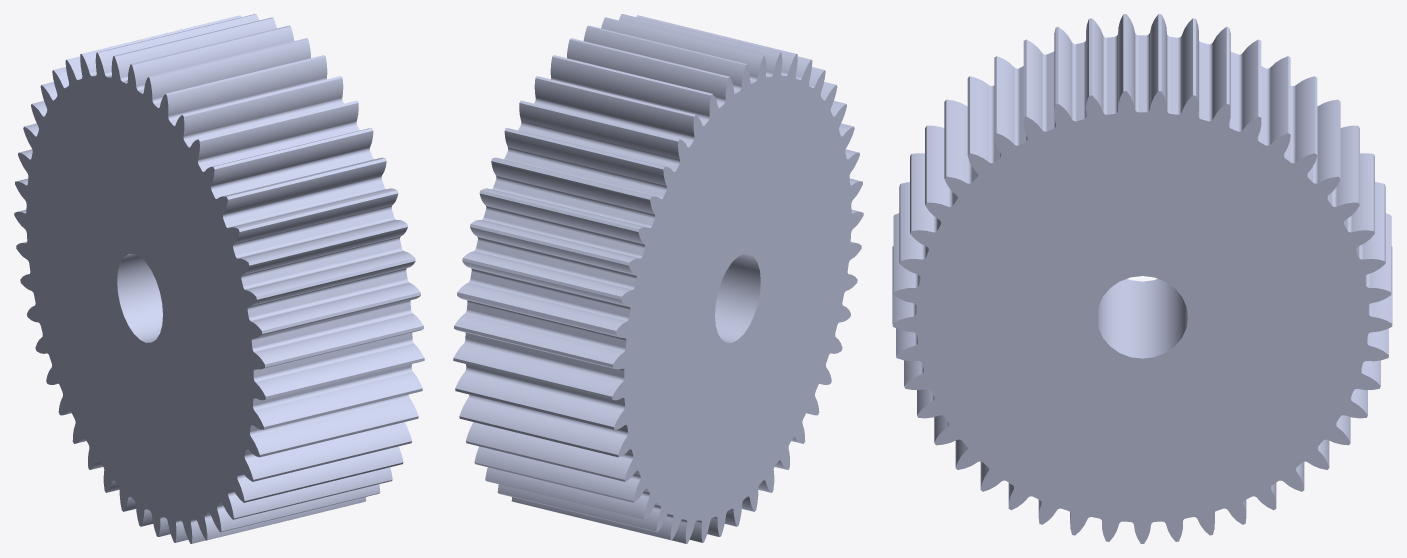
Rendered from spur_gear_6.glb.
The picture shows the model from 3 angles, left to right: view 1: azimuth 30°, elevation 25°; view 2: azimuth 150°, elevation 25°; view 3: azimuth 270°, elevation 25°; orthographic projection.
Parts seen in each view (by area): view 1: spur_gear_6; view 2: spur_gear_6; view 3: spur_gear_6.
Boxes of the visible parts, x1,y1,x2,y2 form: spur_gear_6: (14,14,424,543); spur_gear_6: (453,14,863,543); spur_gear_6: (892,14,1392,543).
Size of the model in its own units: 0.06 by 0.1643 by 0.1644.
